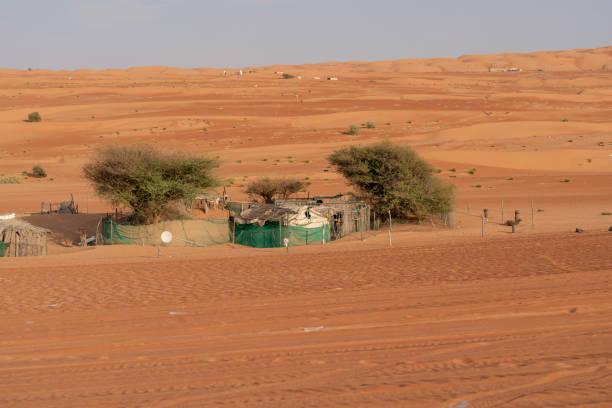vehicle_track: (10, 340, 598, 403)
